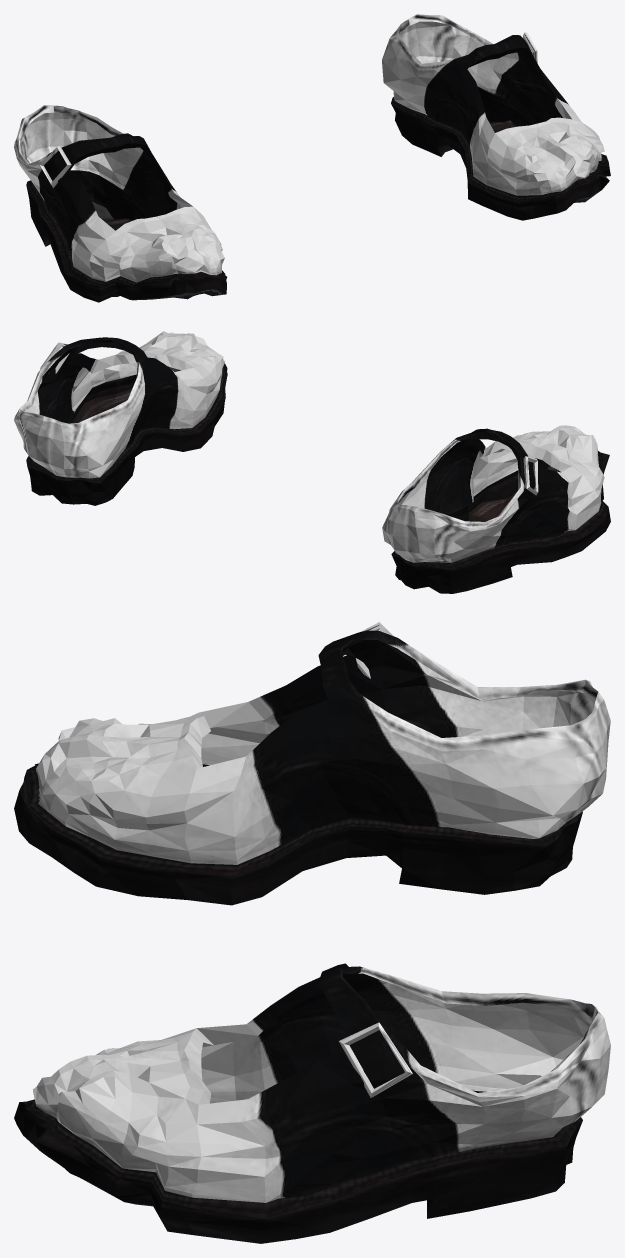
Rendered from mhw_callharvey3d_harvey_saddleshoes1.glb.
The picture shows the model from 3 angles, top to bottom: view 1: azimuth 30°, elevation 25°; view 2: azimuth 150°, elevation 25°; view 3: azimuth 270°, elevation 25°; orthographic projection. The views are drawn at different scales.
Parts seen in each view (by area): view 1: mhw_callharvey3d_harvey_saddleshoes1; view 2: mhw_callharvey3d_harvey_saddleshoes1; view 3: mhw_callharvey3d_harvey_saddleshoes1.
Part boxes in pixels (box(x1,y1,x2,y2)): mhw_callharvey3d_harvey_saddleshoes1: box(14, 14, 610, 302); mhw_callharvey3d_harvey_saddleshoes1: box(14, 331, 610, 593); mhw_callharvey3d_harvey_saddleshoes1: box(14, 622, 610, 1243).
Bounding box in the file's own units: 0.583 × 0.129 × 0.3272.
1 material, 1 textured.
